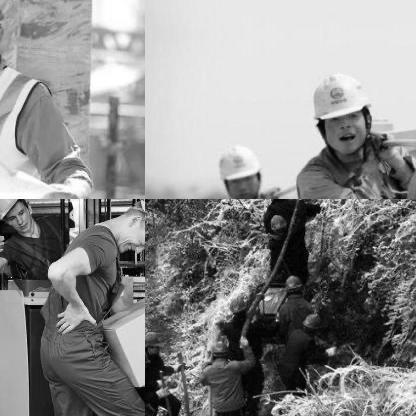Helmet: (303, 56, 379, 162), (212, 133, 263, 198), (110, 199, 144, 255), (0, 199, 34, 232), (302, 0, 381, 12), (298, 310, 326, 338), (206, 337, 233, 363), (266, 209, 291, 237), (280, 272, 304, 296), (226, 293, 249, 317), (145, 330, 164, 353)
